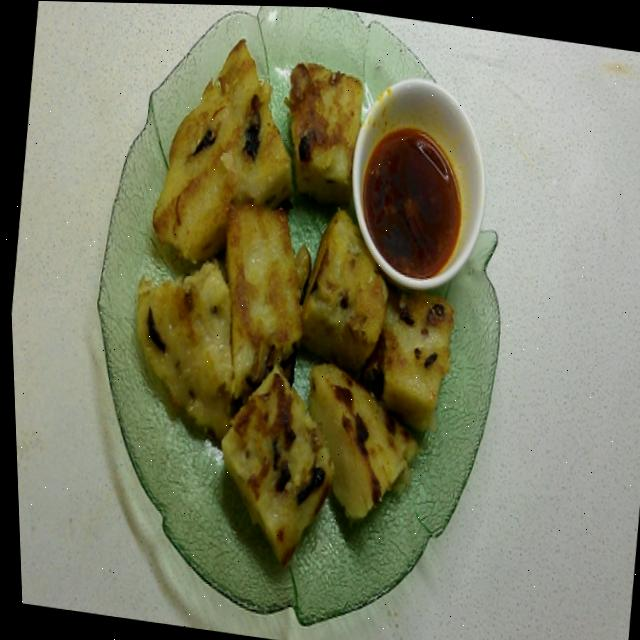蛋糕甜品: (10, 16, 553, 600)
